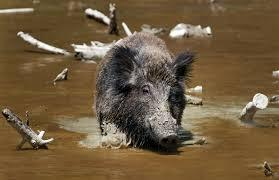wildboar: (92, 30, 199, 154)
